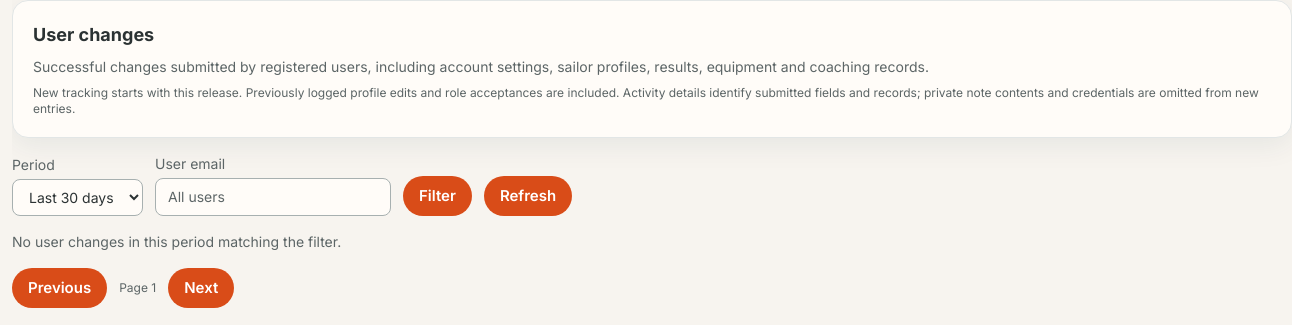
Test case: User changes panel › supports pagination beyond the first hundred entries
This screenshot has width=1292, height=325.
Click the button "Next".
click(201, 288)  # box [168,268,234,308]
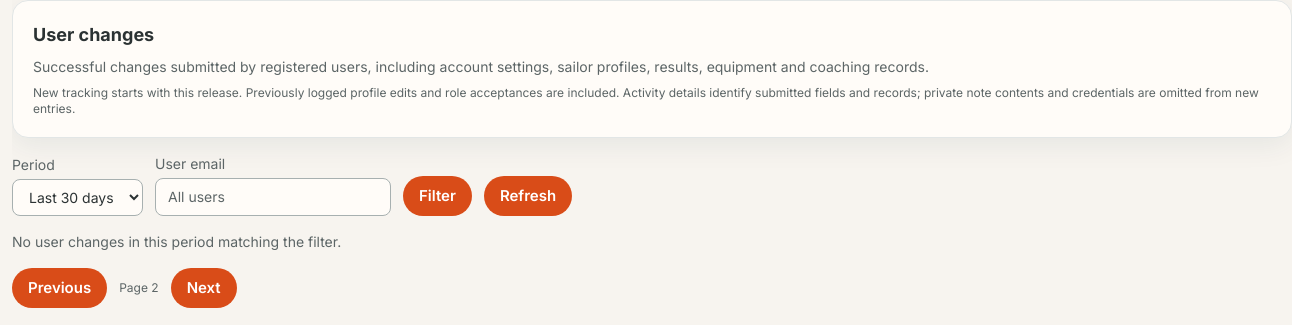
expect the text "Page 2" is shown: met, box [119,280,159,296]
